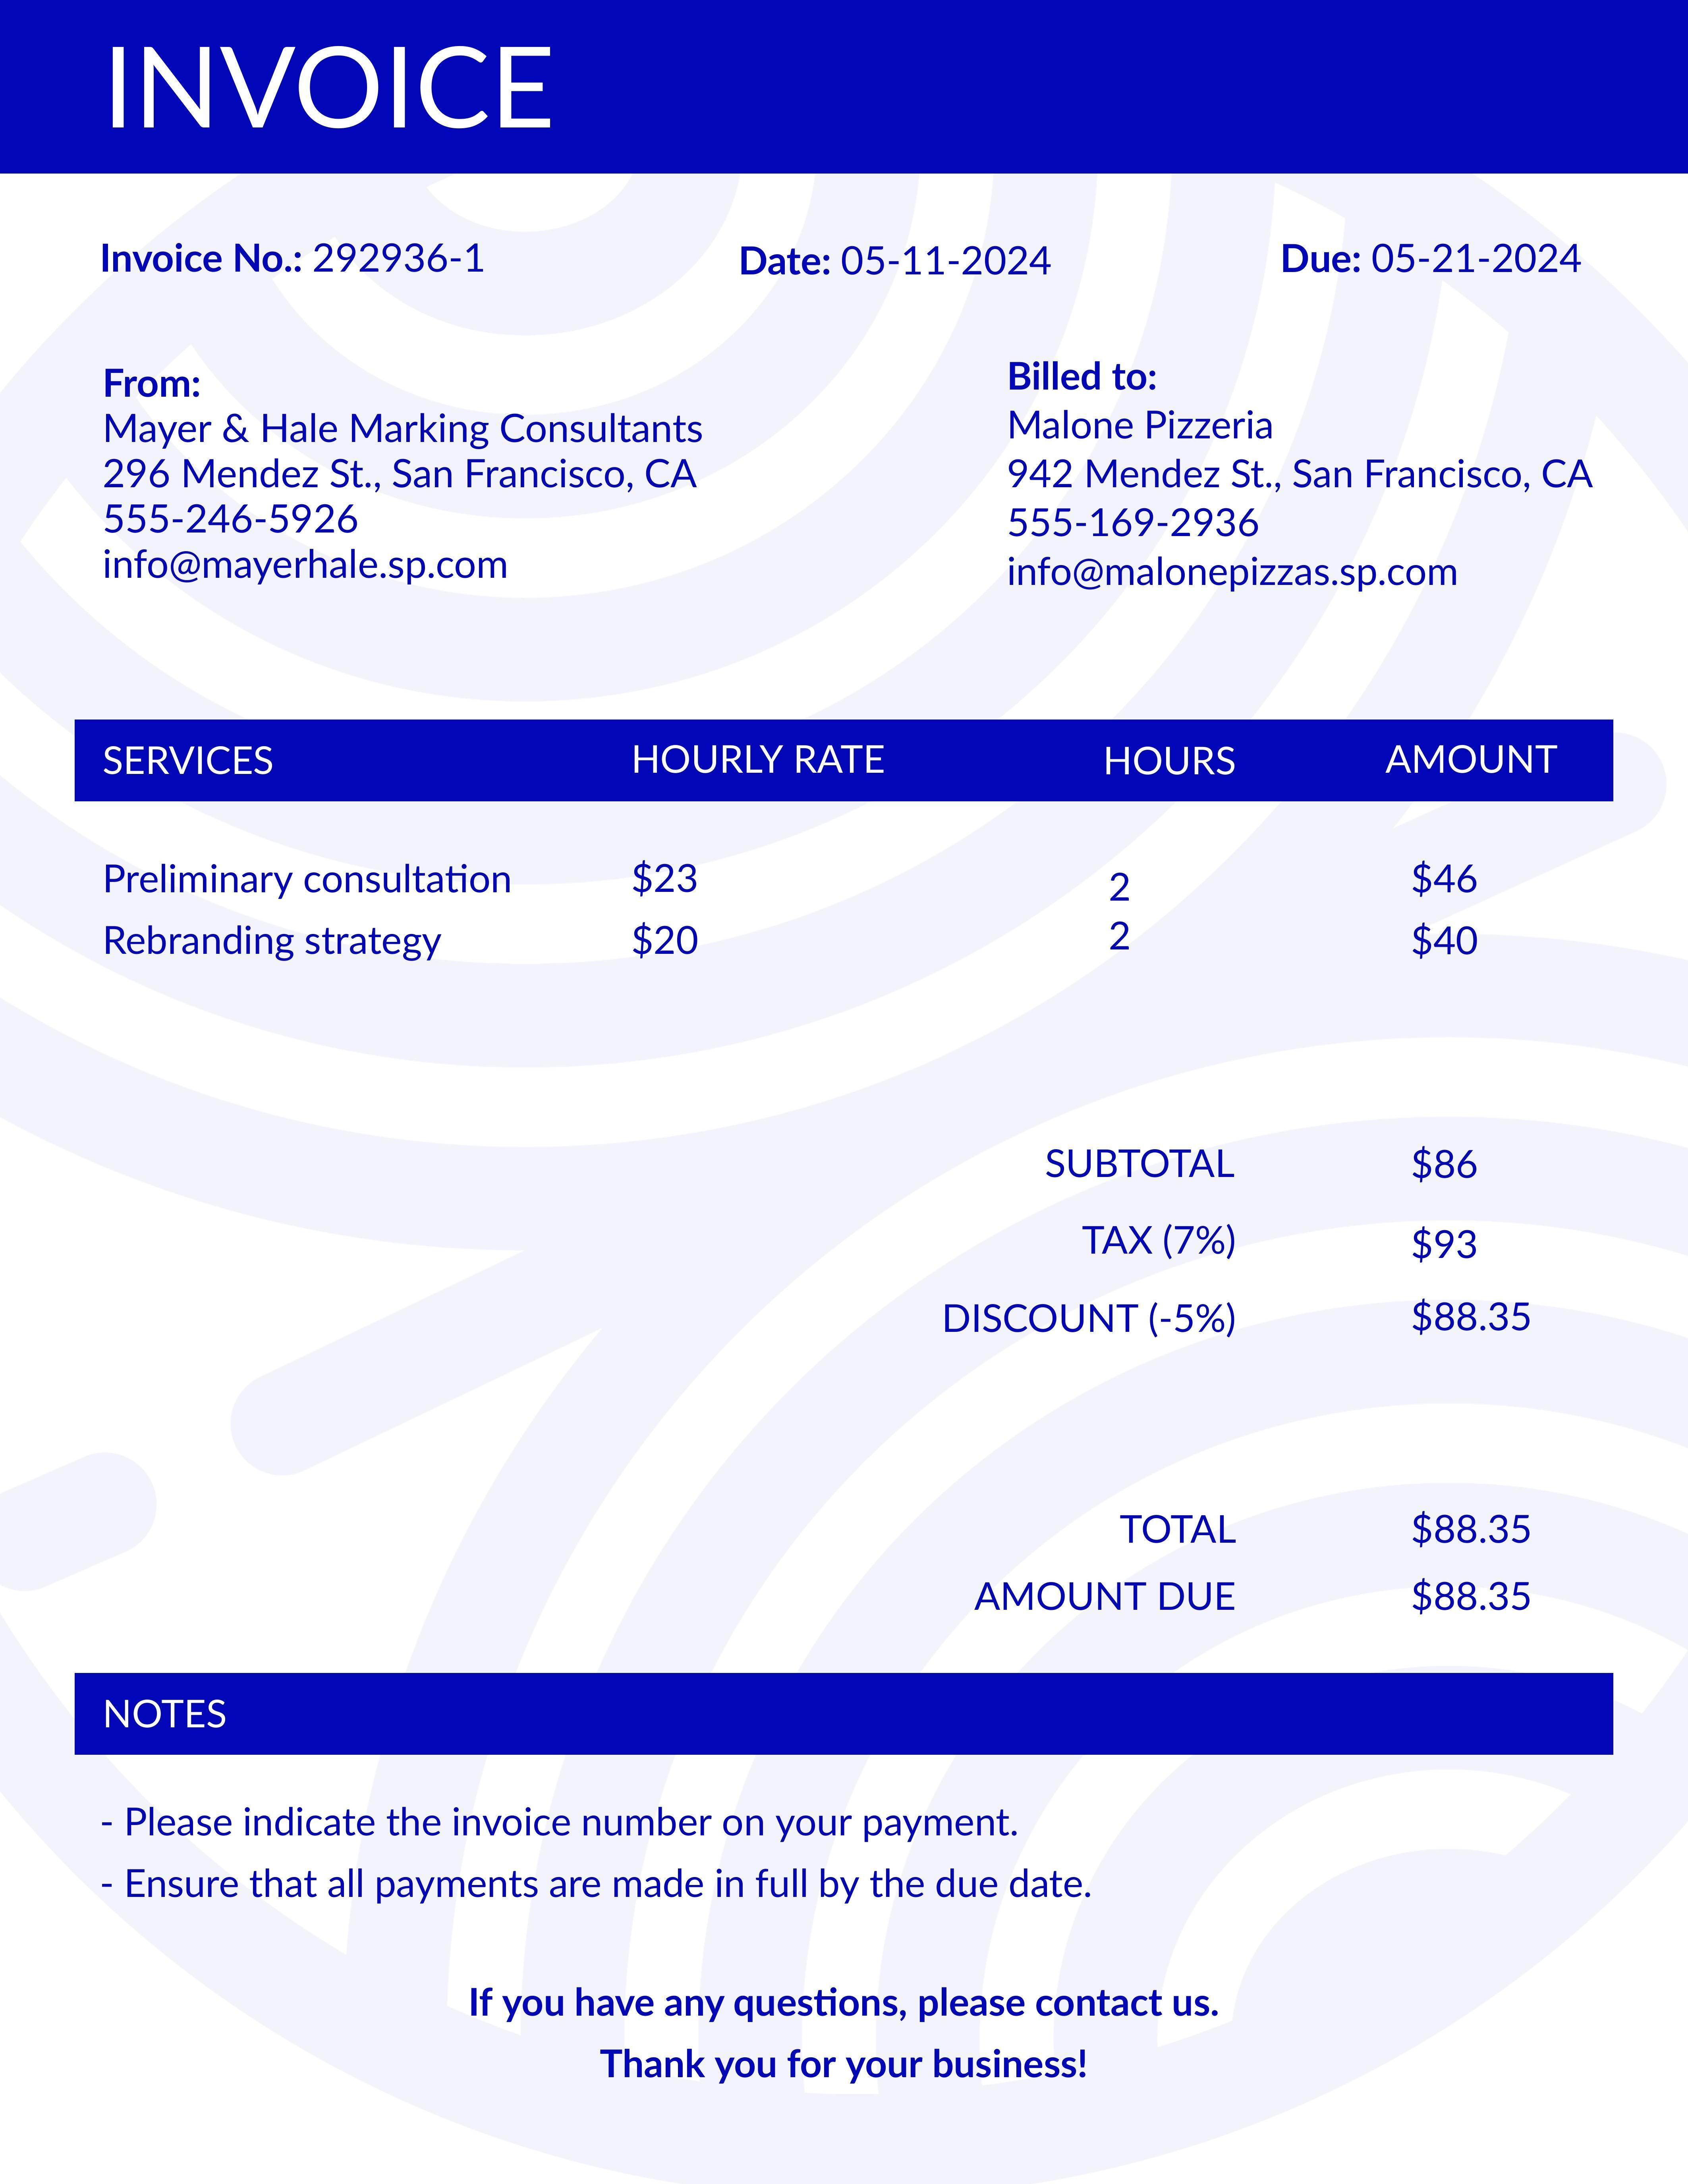ROI: (73, 716, 1612, 989), (936, 1131, 1550, 1624), (972, 337, 1626, 642), (80, 349, 732, 624), (92, 1787, 1174, 1916), (71, 213, 1631, 298)
